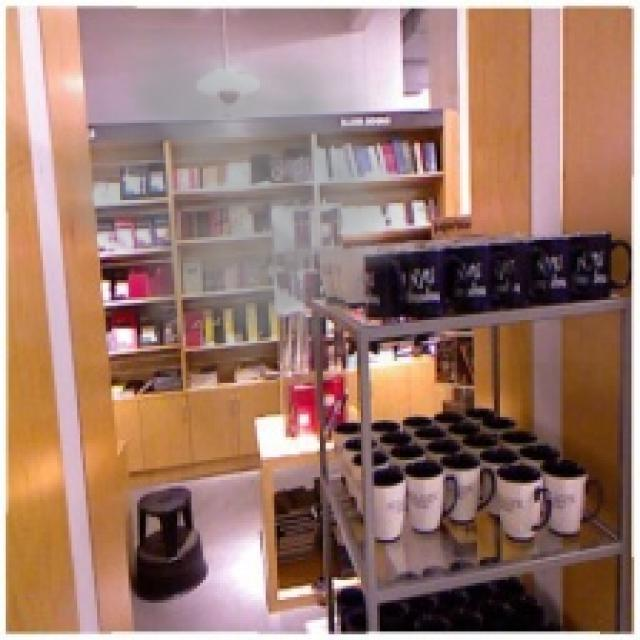Smoke: (34, 28, 449, 403)
